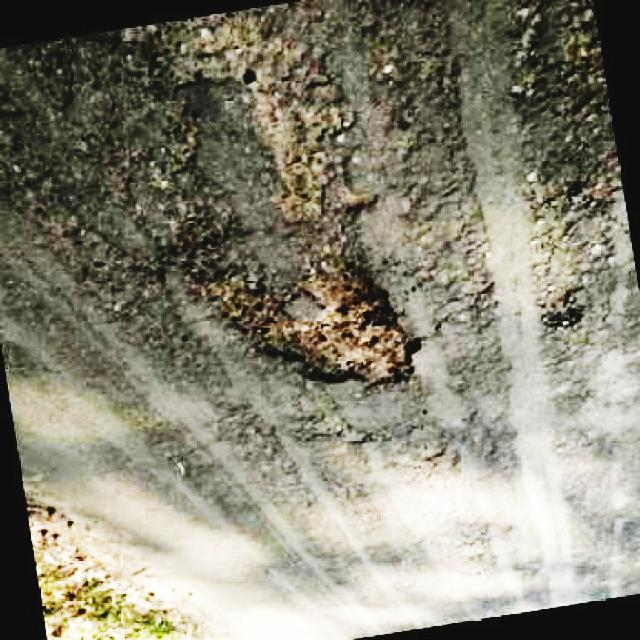pothole: (174, 12, 380, 222), (166, 234, 428, 392)
